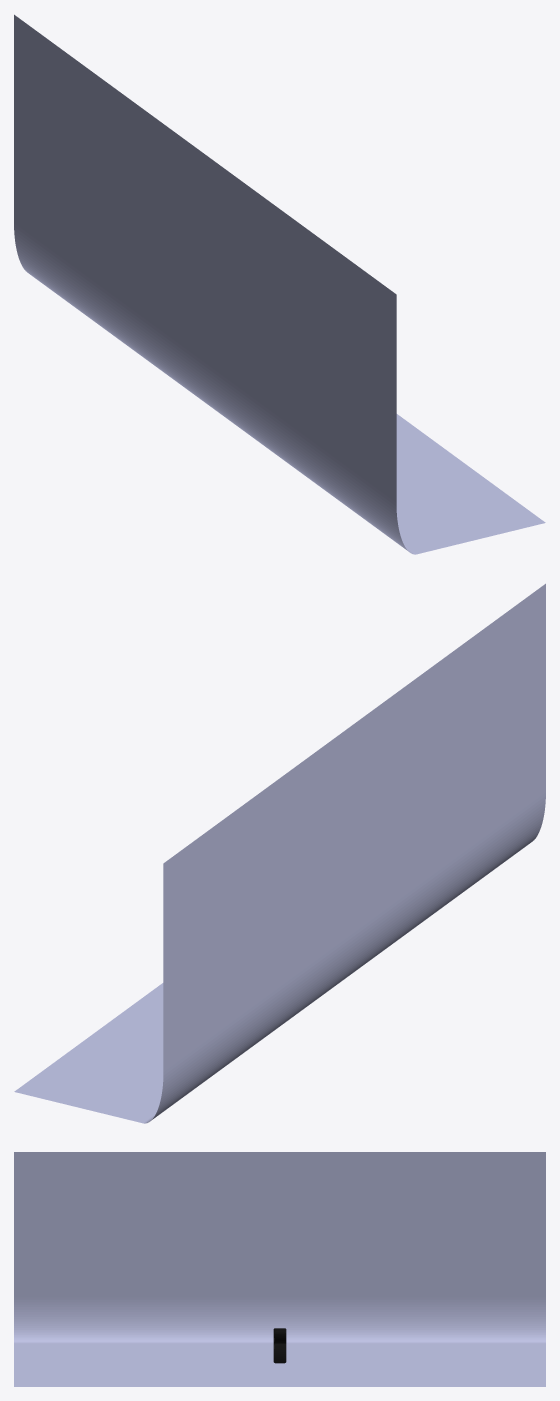
File: fundal4.glb
3 views of the same model, one above another, from view 1: azimuth 30°, elevation 25°; view 2: azimuth 150°, elevation 25°; view 3: azimuth 270°, elevation 25° (orthographic). The views are drawn at different scales.
Visible parts, largest first — view 1: Fundal; view 2: Fundal; view 3: Fundal, Cube.
Part boxes in pixels (x1=…): Fundal: x1=14, y1=14, x2=545, y2=554; Fundal: x1=14, y1=583, x2=545, y2=1123; Fundal: x1=14, y1=1152, x2=545, y2=1386; Cube: x1=273, y1=1328, x2=286, y2=1363.
Size of the model in its own units: 13.24 by 22.43 by 58.69.
